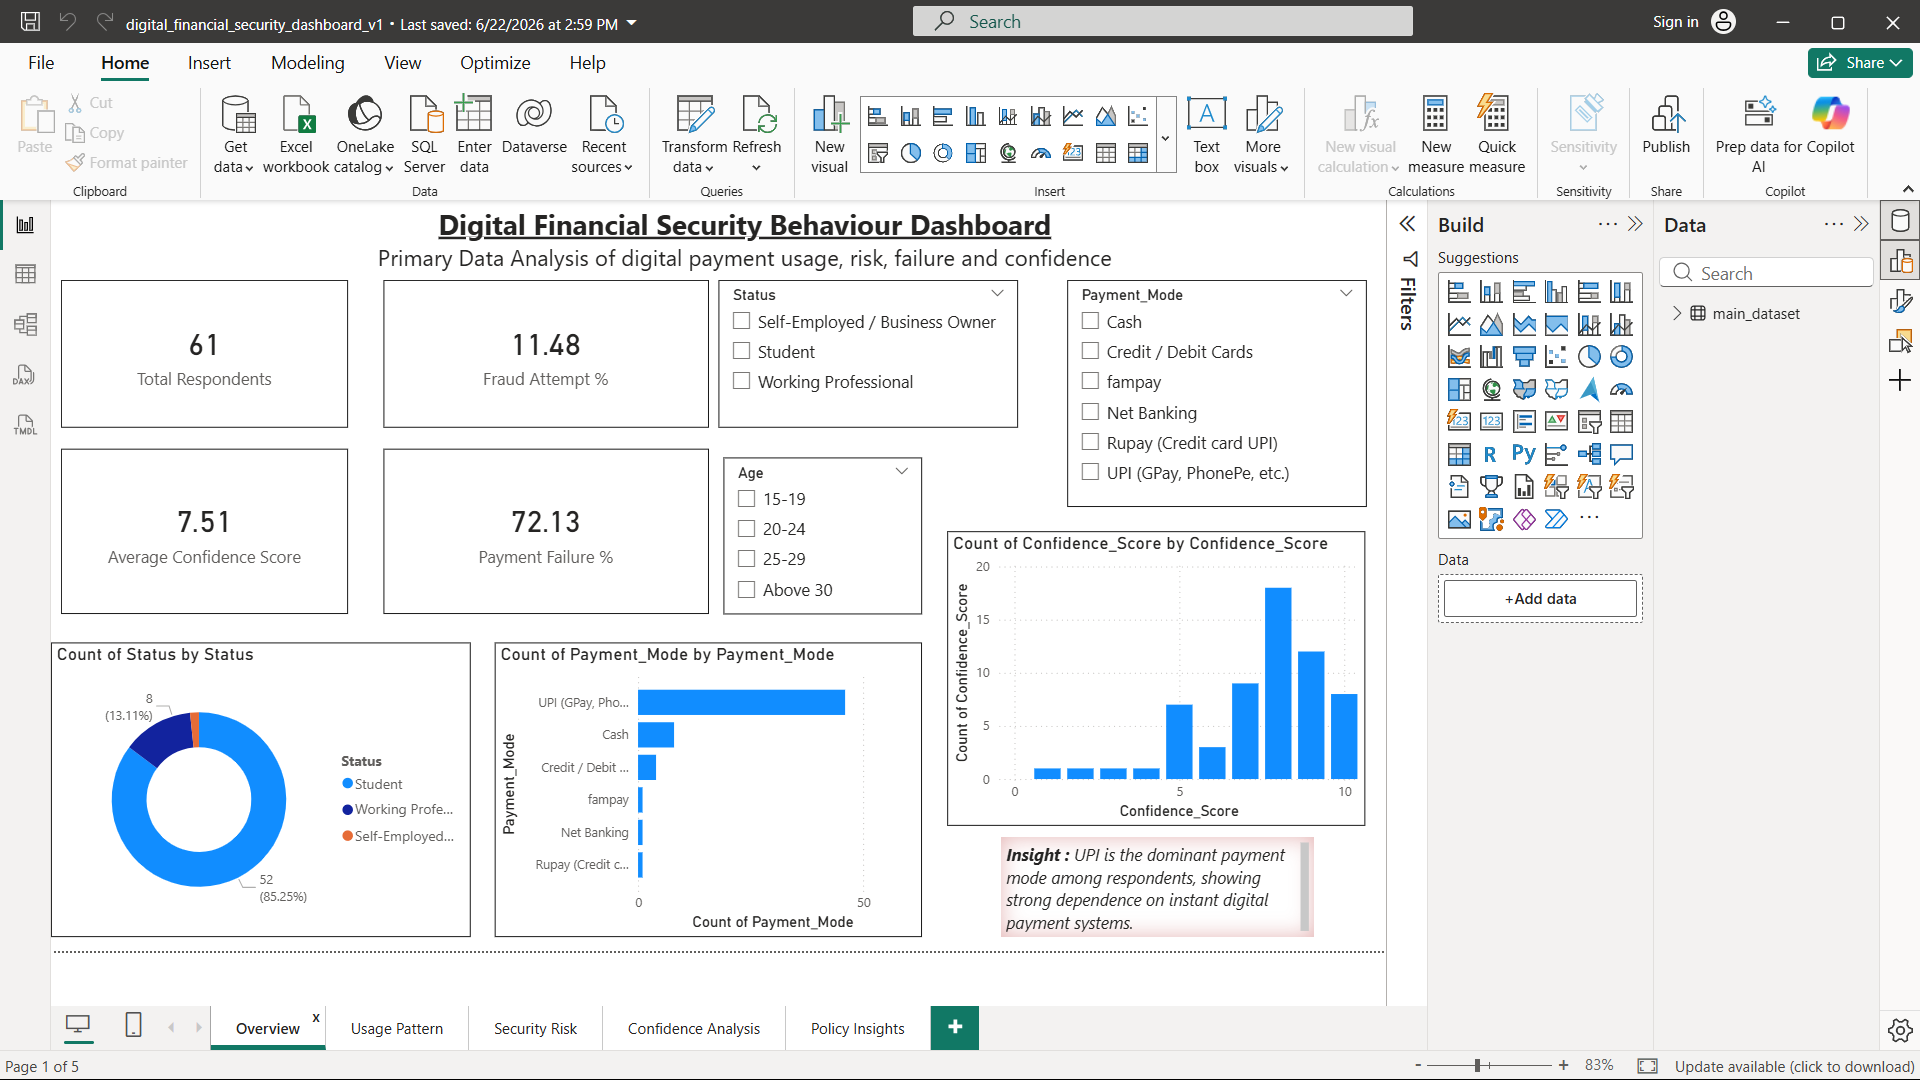

The dashboard page shown, as its layout file describes it:
{"tool":"powerbi","page":{"name":"Overview","canvas":[1280,720],"ordinal":0},"visuals":[{"type":"textbox","box":[10.7,0,1269,76.5],"z":0},{"type":"card","fields":{"Values":["main_dataset.Total Respondents"]},"box":[10.1,76.5,275.6,141.4],"z":1000},{"type":"card","fields":{"Values":["main_dataset.Average Confidence Score"]},"box":[10.1,238.1,275.6,158.7],"z":2000},{"type":"card","fields":{"Values":["main_dataset.Fraud Attempt %"]},"box":[318.9,76.5,311.6,141.4],"z":3000},{"type":"card","fields":{"Values":["main_dataset.Payment Failure %"]},"box":[318.9,238.1,311.6,158.7],"z":4000},{"type":"donutChart","fields":{"Category":["main_dataset.Status"],"Y":["CountNonNull(main_dataset.Status)"]},"box":[0,424.2,402.5,282.8],"z":5000},{"type":"clusteredBarChart","fields":{"Category":["main_dataset.Payment_Mode"],"Y":["CountNonNull(main_dataset.Payment_Mode)"]},"box":[425.6,424.2,409.7,282.8],"z":6000},{"type":"clusteredColumnChart","fields":{"Category":["main_dataset.Confidence_Score"],"Y":["CountNonNull(main_dataset.Confidence_Score)"]},"box":[859.9,317.4,401.1,282.8],"z":7000},{"type":"slicer","fields":{"Values":["main_dataset.Age"]},"box":[644.9,246.7,190.4,150],"z":8000},{"type":"slicer","fields":{"Values":["main_dataset.Status"]},"box":[640.6,76.5,287.1,141.4],"z":9000},{"type":"slicer","fields":{"Values":["main_dataset.Payment_Mode"]},"box":[973.9,76.5,287.1,217.9],"z":10000},{"type":"textbox","box":[910.4,611.7,300.1,95.2],"z":11000}]}

Visuals, with their boxes on the page's 1280x720 design canvas (x1, y1, x2, y2). These are canvas units, not pixel positions in the 1920x1080 screenshot, which may show the page scaled, cropped or inside an application window:
textbox: locate(11, 0, 1280, 76)
card - main_dataset.Total Respondents: locate(10, 76, 286, 218)
card - main_dataset.Average Confidence Score: locate(10, 238, 286, 397)
card - main_dataset.Fraud Attempt %: locate(319, 76, 630, 218)
card - main_dataset.Payment Failure %: locate(319, 238, 630, 397)
donutChart - main_dataset.Status x CountNonNull(main_dataset.Status): locate(0, 424, 402, 707)
clusteredBarChart - main_dataset.Payment_Mode x CountNonNull(main_dataset.Payment_Mode): locate(426, 424, 835, 707)
clusteredColumnChart - main_dataset.Confidence_Score x CountNonNull(main_dataset.Confidence_Score): locate(860, 317, 1261, 600)
slicer - main_dataset.Age: locate(645, 247, 835, 397)
slicer - main_dataset.Status: locate(641, 76, 928, 218)
slicer - main_dataset.Payment_Mode: locate(974, 76, 1261, 294)
textbox: locate(910, 612, 1210, 707)
